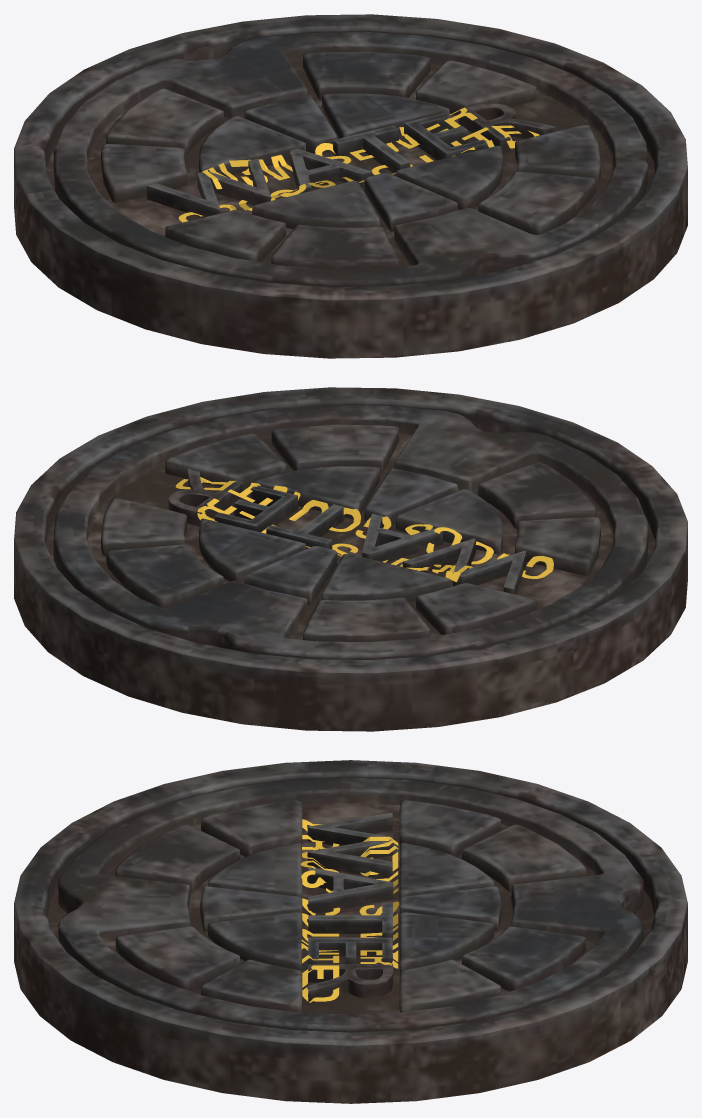
File: nyb_dundee_manhole.glb
3 views of the same model, one above another, from view 1: azimuth 30°, elevation 25°; view 2: azimuth 150°, elevation 25°; view 3: azimuth 270°, elevation 25° (orthographic).
Visible parts, largest first — view 1: water_manhole_cover_frame, stk_lbl_d8bfca2b5d.png; view 2: water_manhole_cover_frame, stk_lbl_d8bfca2b5d.png; view 3: water_manhole_cover_frame, stk_lbl_d8bfca2b5d.png.
Boxes of the visible parts, <box> form: water_manhole_cover_frame: <box>14,14,687,358</box>; stk_lbl_d8bfca2b5d.png: <box>178,107,539,222</box>; water_manhole_cover_frame: <box>14,387,687,731</box>; stk_lbl_d8bfca2b5d.png: <box>175,477,553,582</box>; water_manhole_cover_frame: <box>14,760,687,1103</box>; stk_lbl_d8bfca2b5d.png: <box>300,819,399,1002</box>.
Bounding box in the file's own units: 0.6908 × 0.0701 × 0.6908.
2 materials, 2 textured.
